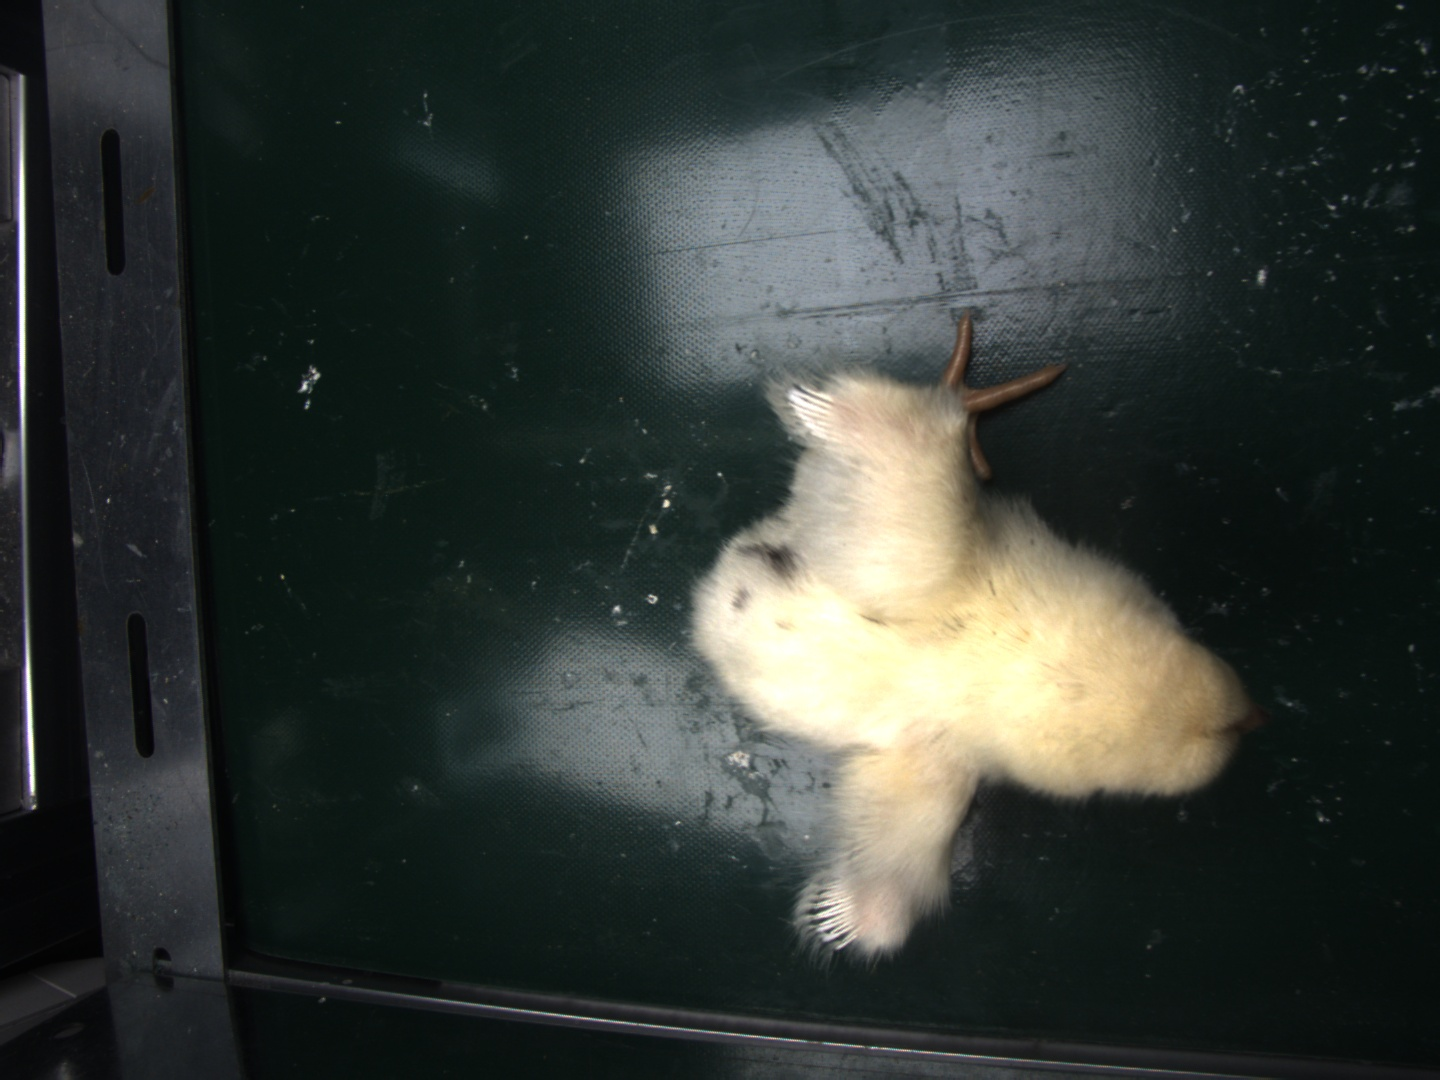male: (810, 881, 858, 948)
